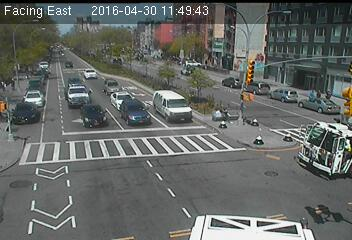neg: (303, 117, 336, 162), (15, 71, 46, 113), (51, 139, 80, 178), (98, 20, 126, 58), (231, 51, 259, 88), (57, 56, 84, 93), (90, 166, 117, 202), (287, 65, 311, 98), (134, 156, 157, 188), (306, 190, 327, 218), (153, 86, 174, 114), (176, 40, 197, 68), (216, 153, 236, 179), (252, 130, 271, 156), (98, 104, 117, 129), (251, 188, 269, 212), (181, 126, 199, 150)
